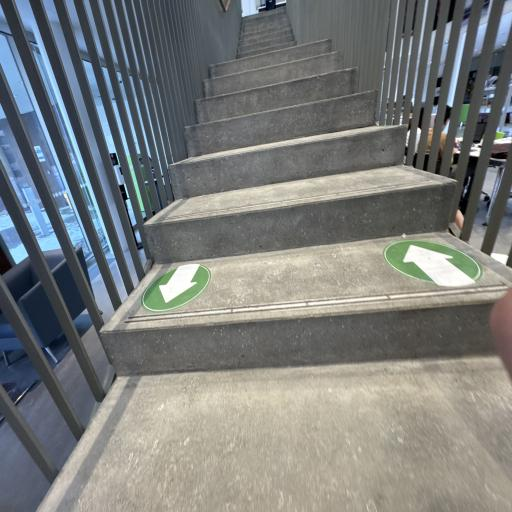Stairs: (39, 7, 512, 511), (38, 356, 511, 512), (195, 68, 357, 124)
